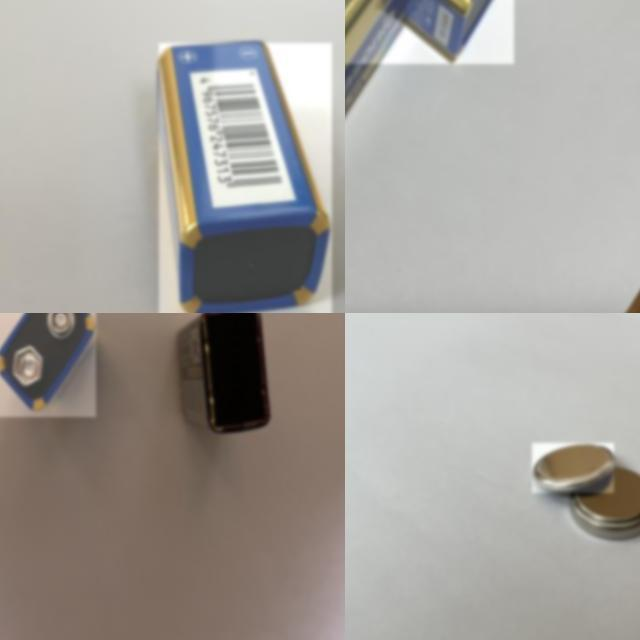9V: (159, 43, 332, 313), (345, 0, 412, 203), (175, 313, 269, 435), (345, 0, 514, 64), (0, 313, 96, 417)
